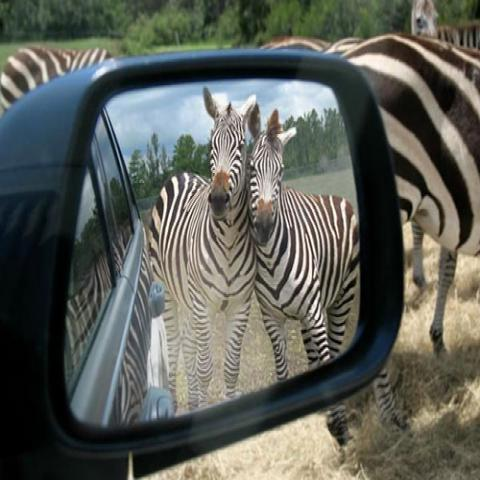car: (63, 112, 176, 422)
